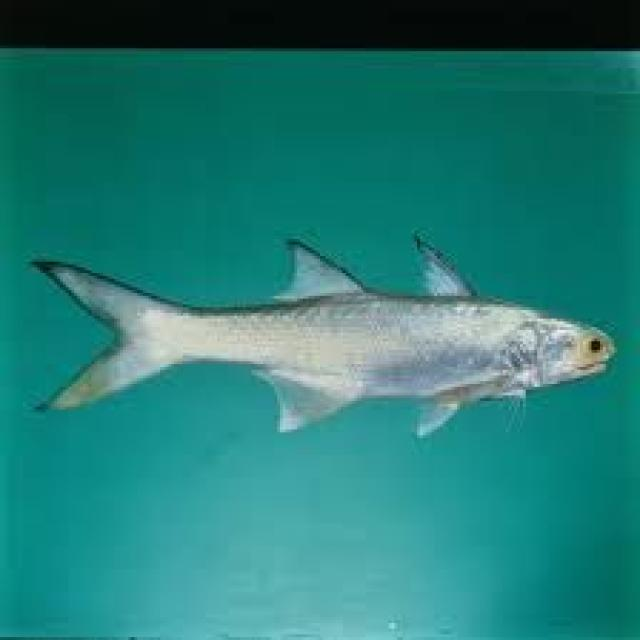Fourfinger-Threadfin: (13, 174, 627, 463)
